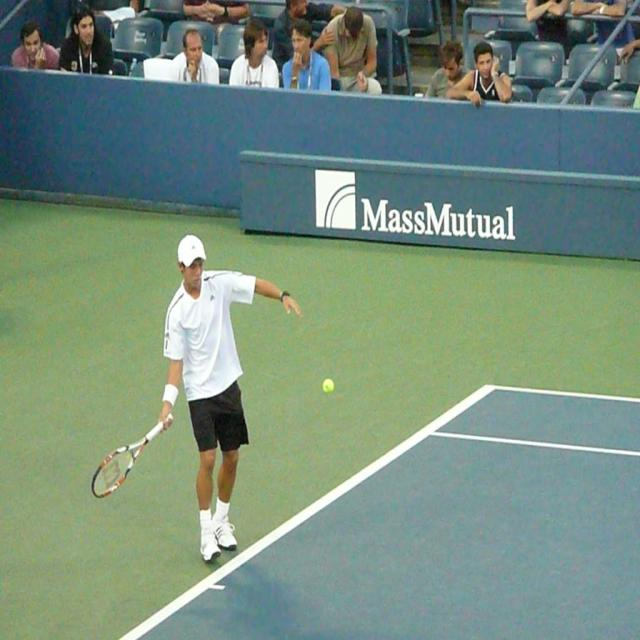Tennis ball: (324, 379, 334, 392)
